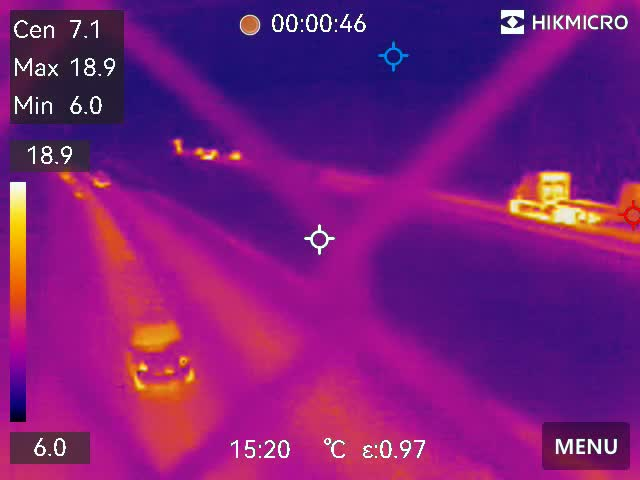heavyTruck: (509, 169, 639, 228)
vehicle: (114, 308, 202, 390)
